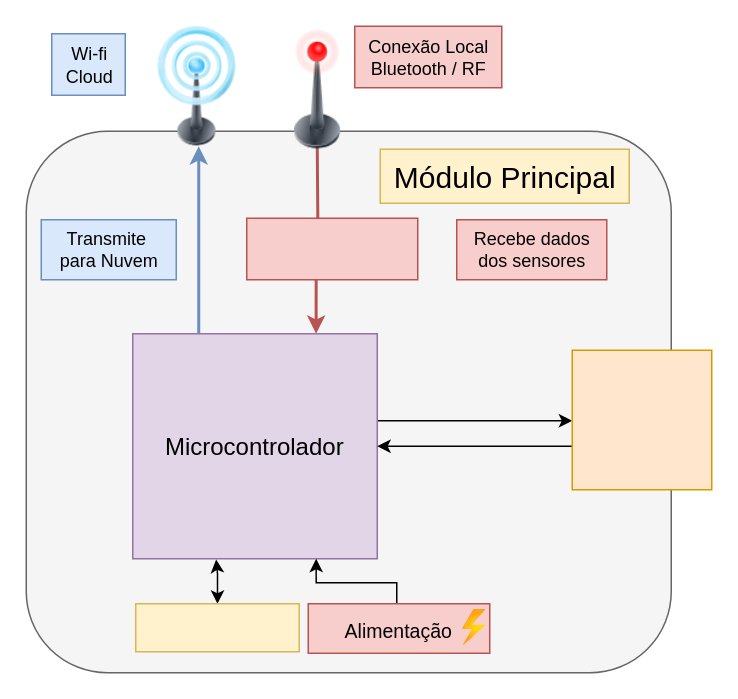
The diagram is 738 pixels wide and 699 high, and some of its shapes have lost their labels. The centre of each missing label's shape, as x and y in pixels:
IHM: pixel 641 419
Memória: pixel 216 627
Módulo de comunicação: pixel 331 248
